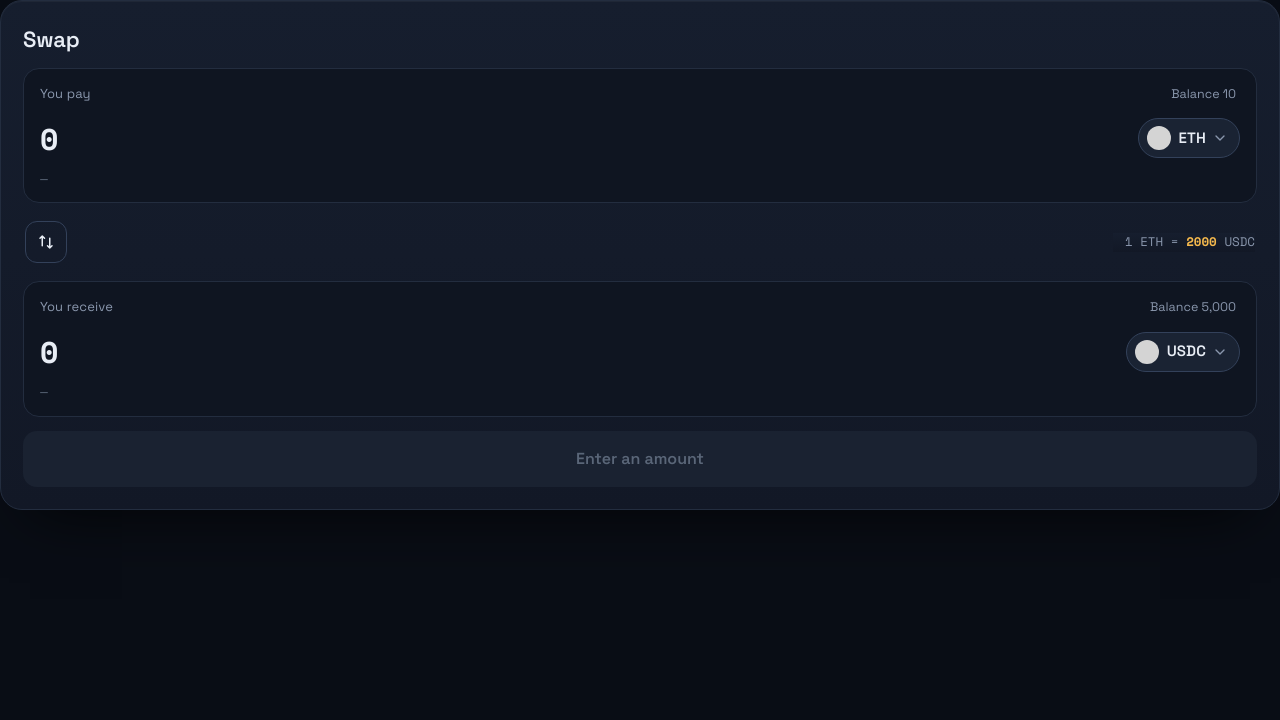
SwapCard › shows the rate and flips it when the direction is switched
This screenshot has width=1280, height=720.
Expected: the field labelled "You pay" is shown, [40, 116, 1126, 161]
Expected: the element with class "rule__rate" reads "1 ETH = 2000 USDC", [1113, 233, 1255, 252]
Click the button named "Switch pay and receive tokens" at (46, 242), box [25, 221, 67, 263]
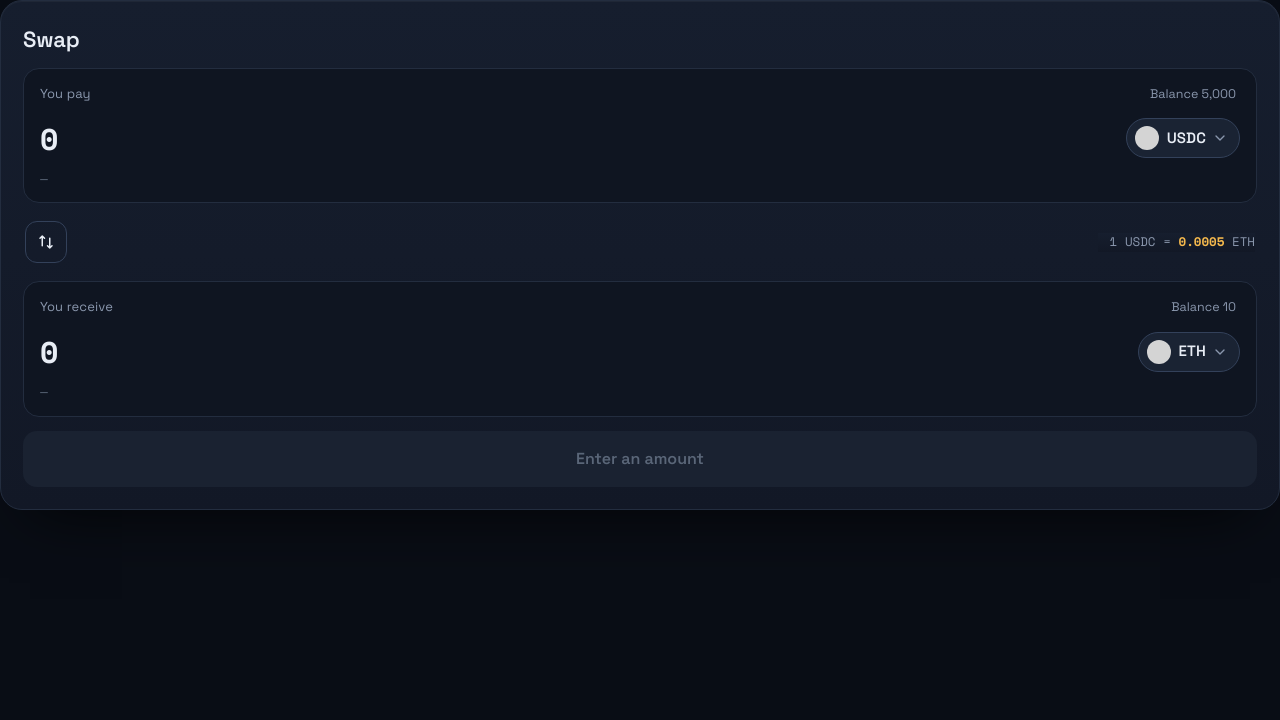
Expected: the element with class "rule__rate" reads "1 USDC = 0.0005 ETH", [1098, 233, 1255, 252]
